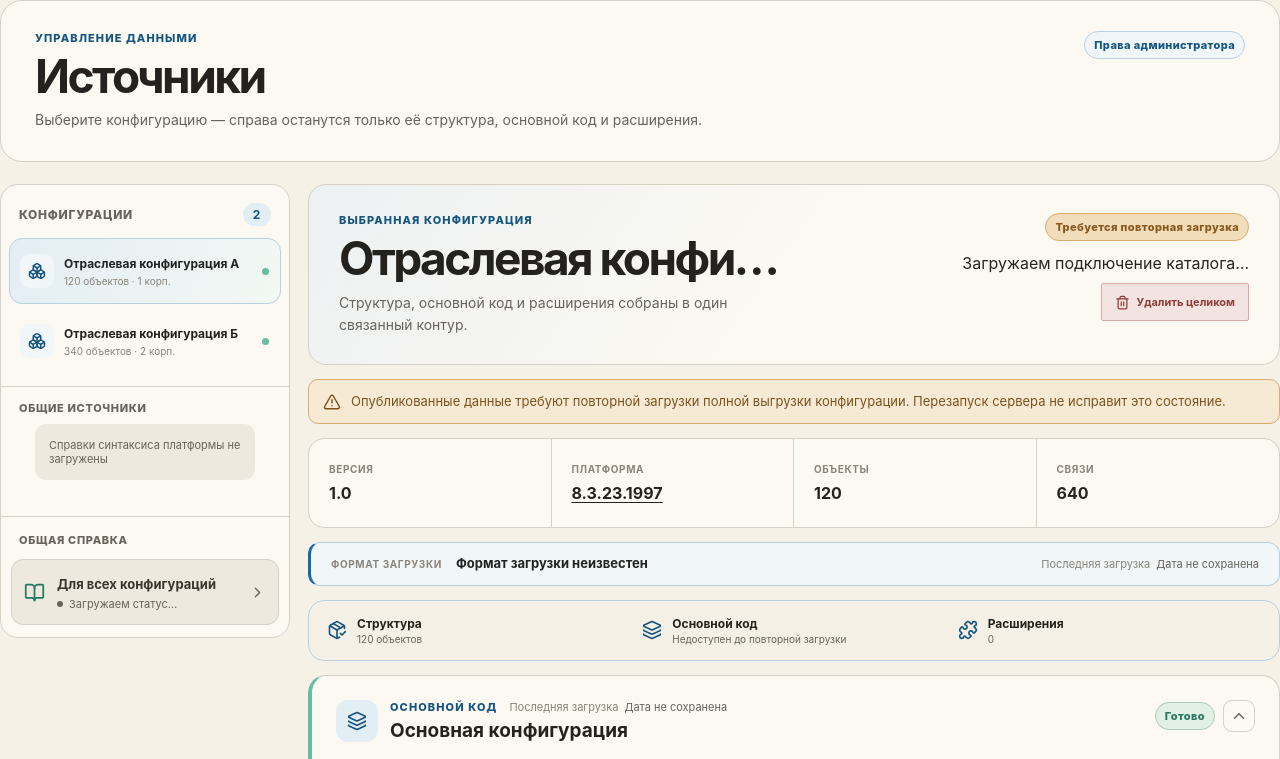
Scenario: позволяет снять native-расширение без отдельной legacy source-строки
The width and height of the screenshot is (1280, 759).
What coordinates should you click on to do the following:
click the button "Отраслевая конфигурация Б 340 объектов · 2 корп."
I would click on:
 (145, 342)
Its box is [9,308,281,374].
(page scrolled)
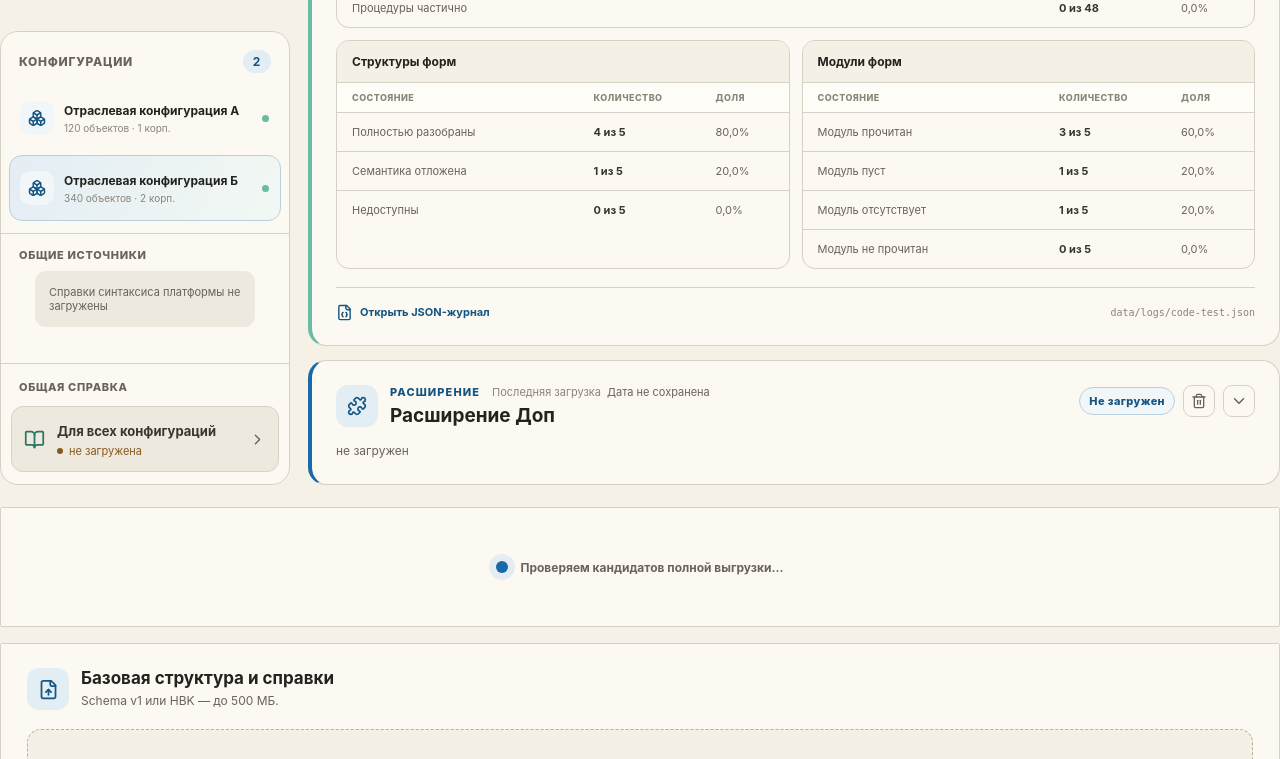
What coordinates should you click on to do the following:
click the button named "Удалить Расширение Доп"
I would click on:
 (1199, 400)
Its box is [1183,384,1215,416].
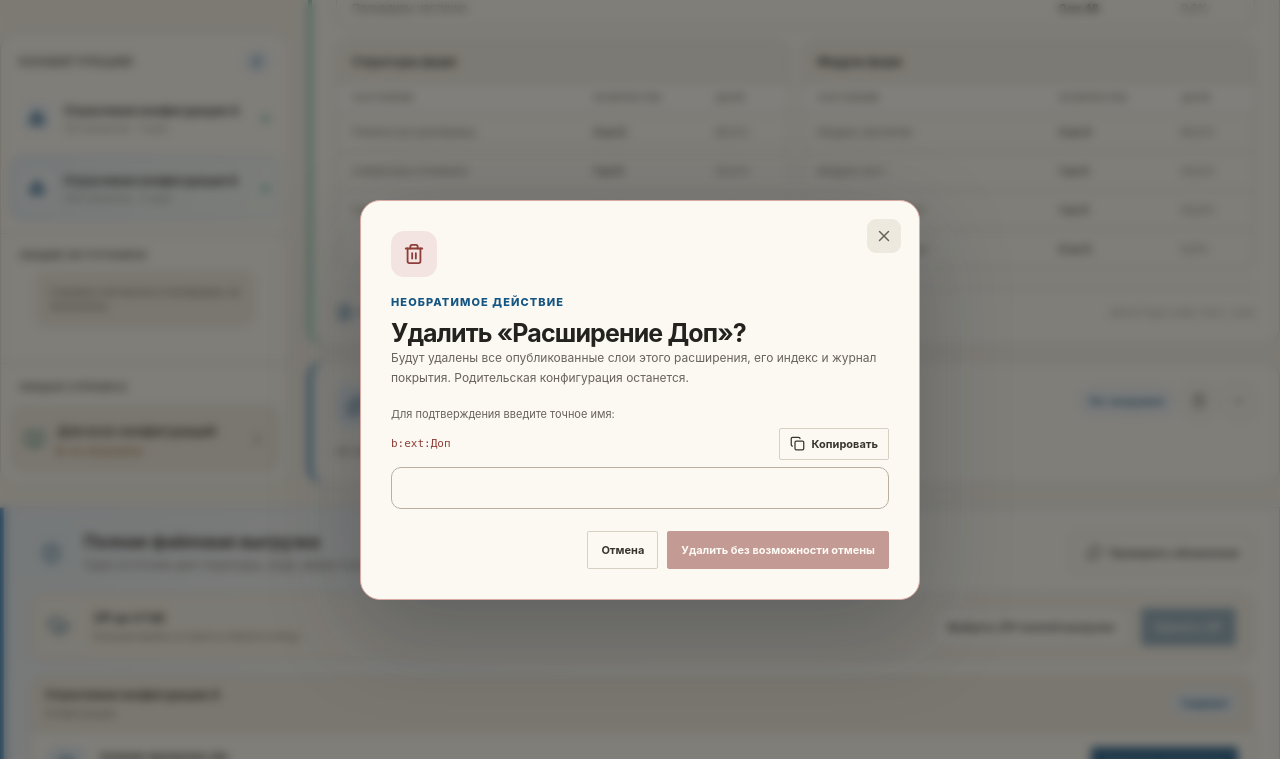
Expected: the text "все опубликованные слои этого расширения" is shown, [391,350,876,384]
Expected: the text "b:ext:Доп" is shown, [391,437,451,450]
